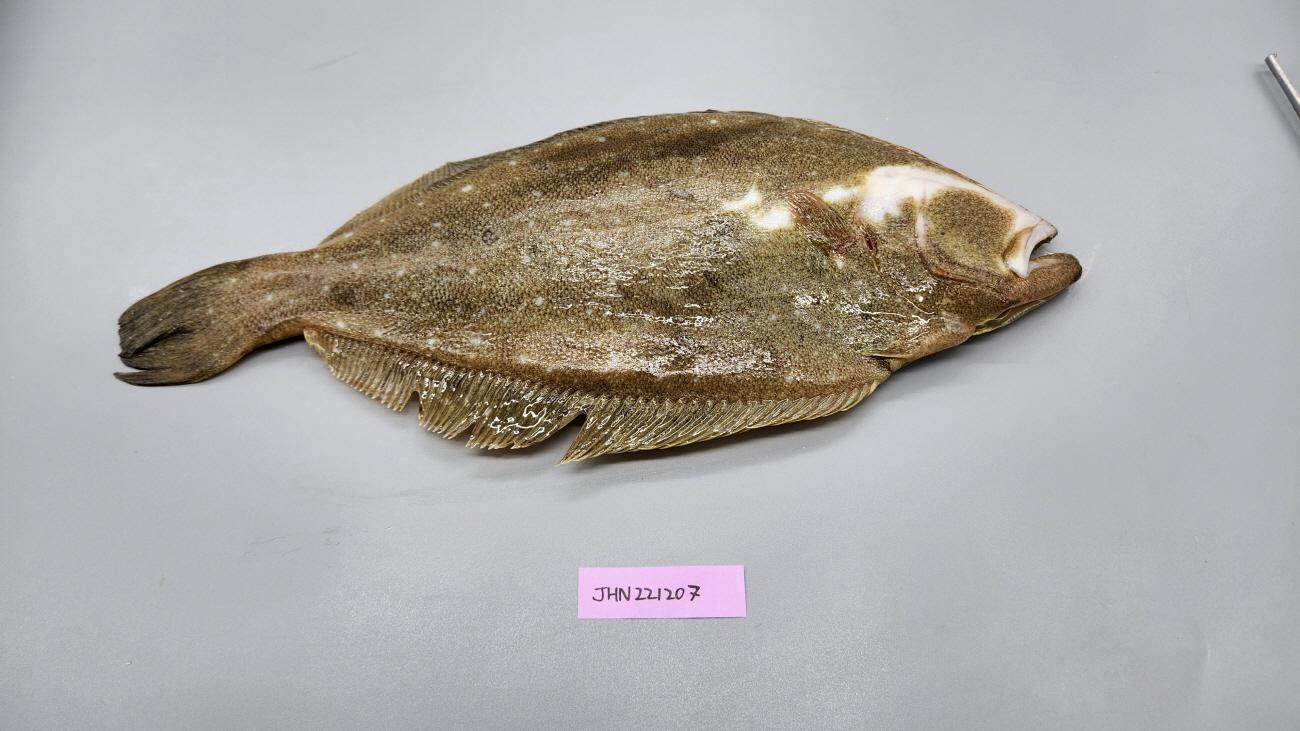POOUN: (112, 108, 1082, 469)
